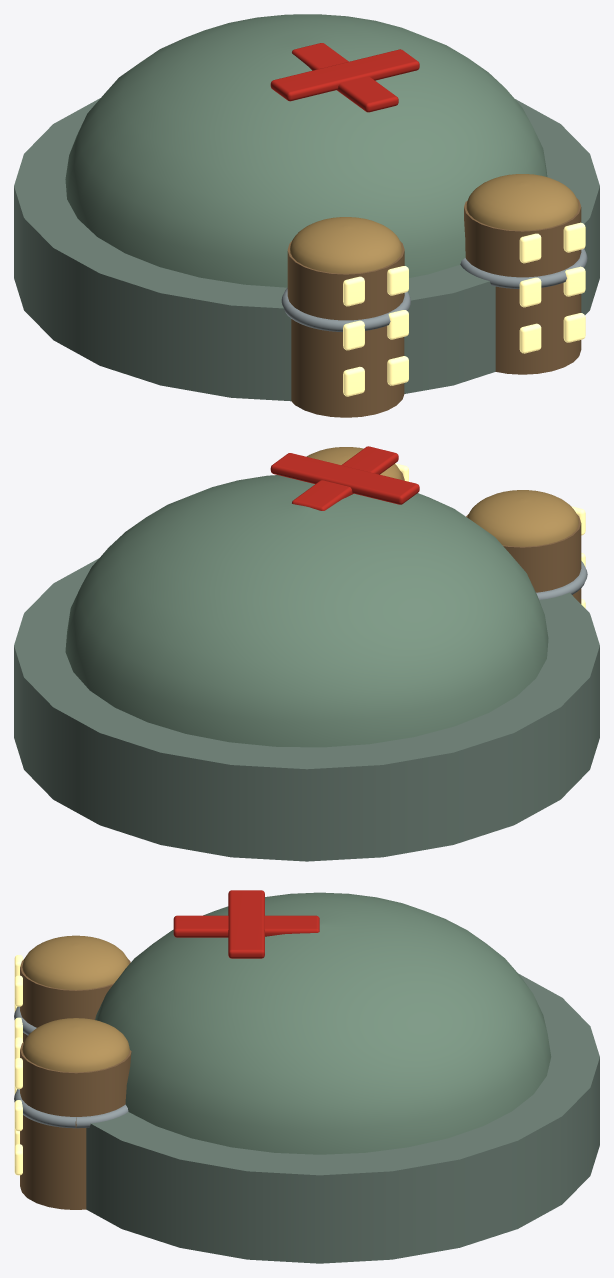
3 renders of one model, top to bottom at view 1: azimuth 30°, elevation 25°; view 2: azimuth 150°, elevation 25°; view 3: azimuth 270°, elevation 25°, orthographic. The views are drawn at different scales.
Parts seen in each view (by area): view 1: Medical care dome, Foundation drum, Cylindrical tower, Cylindrical tower.001, Tower crown, Tower crown.001, Medical roof marker horizontal, Medical roof marker vertical, Tower seam, Tower seam.001, Inset service window.006, Inset service window.010 (+10 smaller); view 2: Medical care dome, Foundation drum, Tower crown, Medical roof marker horizontal, Cylindrical tower, Medical roof marker vertical, Tower crown.001, Tower seam; view 3: Medical care dome, Foundation drum, Cylindrical tower.001, Tower crown.001, Tower crown, Cylindrical tower, Medical roof marker horizontal, Medical roof marker vertical, Tower seam.001.
Boxes of the visible parts, left/top/right/bottom form: Medical care dome: left=65, top=14, right=547, bottom=287; Foundation drum: left=14, top=98, right=599, bottom=401; Cylindrical tower: left=287, top=241, right=404, bottom=417; Cylindrical tower.001: left=464, top=198, right=581, bottom=374; Tower crown: left=290, top=217, right=402, bottom=273; Tower crown.001: left=466, top=174, right=578, bottom=230; Medical roof marker horizontal: left=270, top=49, right=419, bottom=101; Medical roof marker vertical: left=292, top=43, right=398, bottom=112; Tower seam: left=281, top=288, right=410, bottom=331; Tower seam.001: left=460, top=249, right=587, bottom=288; Inset service window.006: left=519, top=323, right=541, bottom=353; Inset service window.010: left=519, top=233, right=541, bottom=263; Medical care dome: left=65, top=475, right=548, bottom=747; Foundation drum: left=14, top=558, right=599, bottom=861; Tower crown: left=467, top=490, right=578, bottom=546; Medical roof marker horizontal: left=270, top=453, right=419, bottom=504; Cylindrical tower: left=466, top=514, right=581, bottom=603; Medical roof marker vertical: left=292, top=446, right=398, bottom=510; Tower crown.001: left=306, top=447, right=402, bottom=479; Tower seam: left=536, top=561, right=587, bottom=599; Medical care dome: left=95, top=892, right=551, bottom=1154; Foundation drum: left=86, top=973, right=599, bottom=1263; Cylindrical tower.001: left=20, top=1042, right=131, bottom=1209; Tower crown.001: left=22, top=1018, right=129, bottom=1072; Tower crown: left=22, top=935, right=129, bottom=989; Cylindrical tower: left=20, top=959, right=130, bottom=1041; Medical roof marker horizontal: left=228, top=890, right=264, bottom=958; Medical roof marker vertical: left=173, top=915, right=319, bottom=937; Tower seam.001: left=14, top=1089, right=128, bottom=1128.
Bounding box in the file's own units: 2.3 × 1.02 × 2.4.
